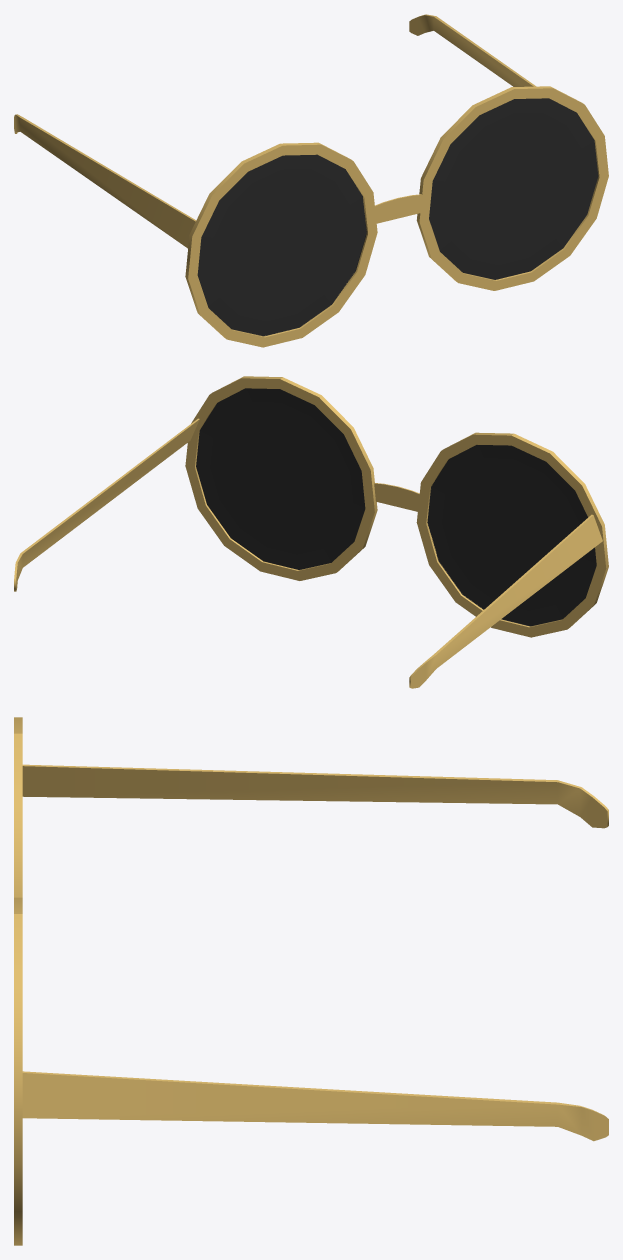
The model's file is glasses.fbx.
3 views of the same model, one above another, from view 1: azimuth 30°, elevation 25°; view 2: azimuth 150°, elevation 25°; view 3: azimuth 270°, elevation 25° (orthographic). The views are drawn at different scales.
Visible parts, largest first — view 1: Glasses; view 2: Glasses; view 3: Glasses.
Part boxes in pixels (x1,y1,x2,y2): Glasses: (14,14,608,347); Glasses: (14,376,608,688); Glasses: (14,717,608,1245).
Bounding box in the file's own units: 1.3 × 0.5816 × 0.9955.
